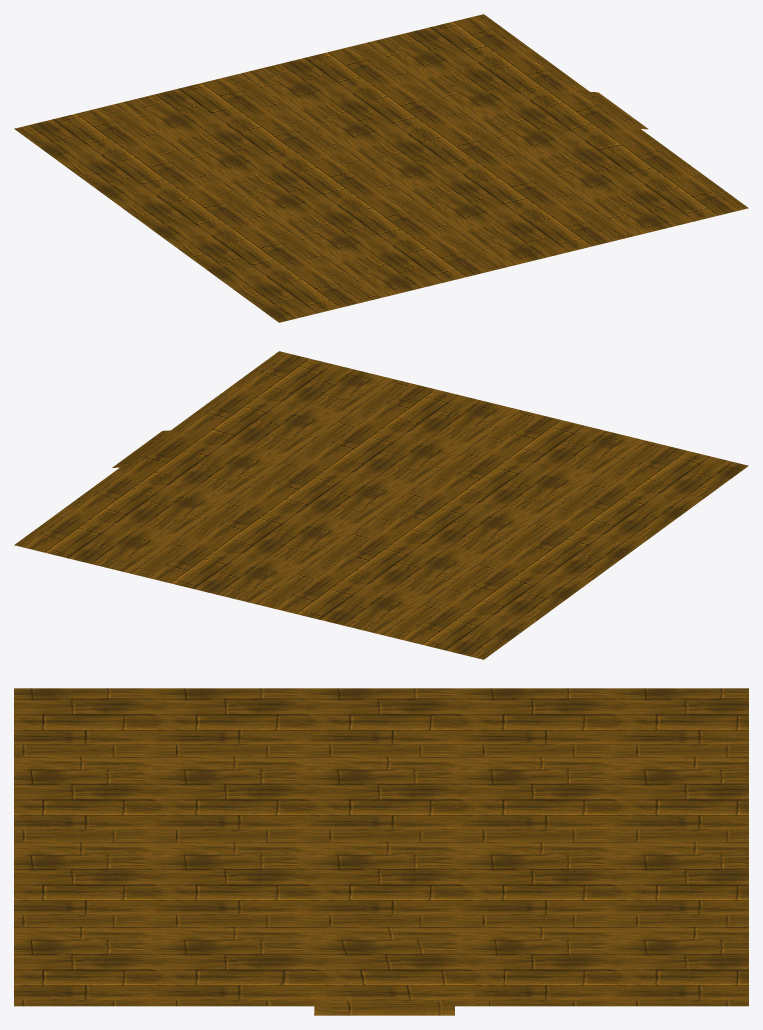
Rendered from HTOWN01_MILLFLOOR.fbx.
The picture shows the model from 3 angles, top to bottom: view 1: azimuth 30°, elevation 25°; view 2: azimuth 150°, elevation 25°; view 3: azimuth 270°, elevation 25°; orthographic projection. The views are drawn at different scales.
Parts seen in each view (by area): view 1: HTOWN01_MILLFLOOR; view 2: HTOWN01_MILLFLOOR; view 3: HTOWN01_MILLFLOOR.
Boxes of the visible parts, box(x1,y1,x2,y2) form: HTOWN01_MILLFLOOR: box(14, 14, 748, 322); HTOWN01_MILLFLOOR: box(14, 351, 748, 659); HTOWN01_MILLFLOOR: box(14, 688, 748, 1015).
Bounding box in the file's own units: 130607 × 676 × 125391.
1 material, 1 textured.
